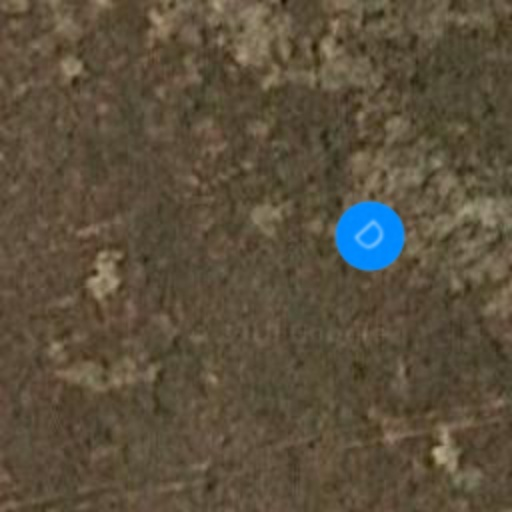circle: (320, 186, 420, 286)
